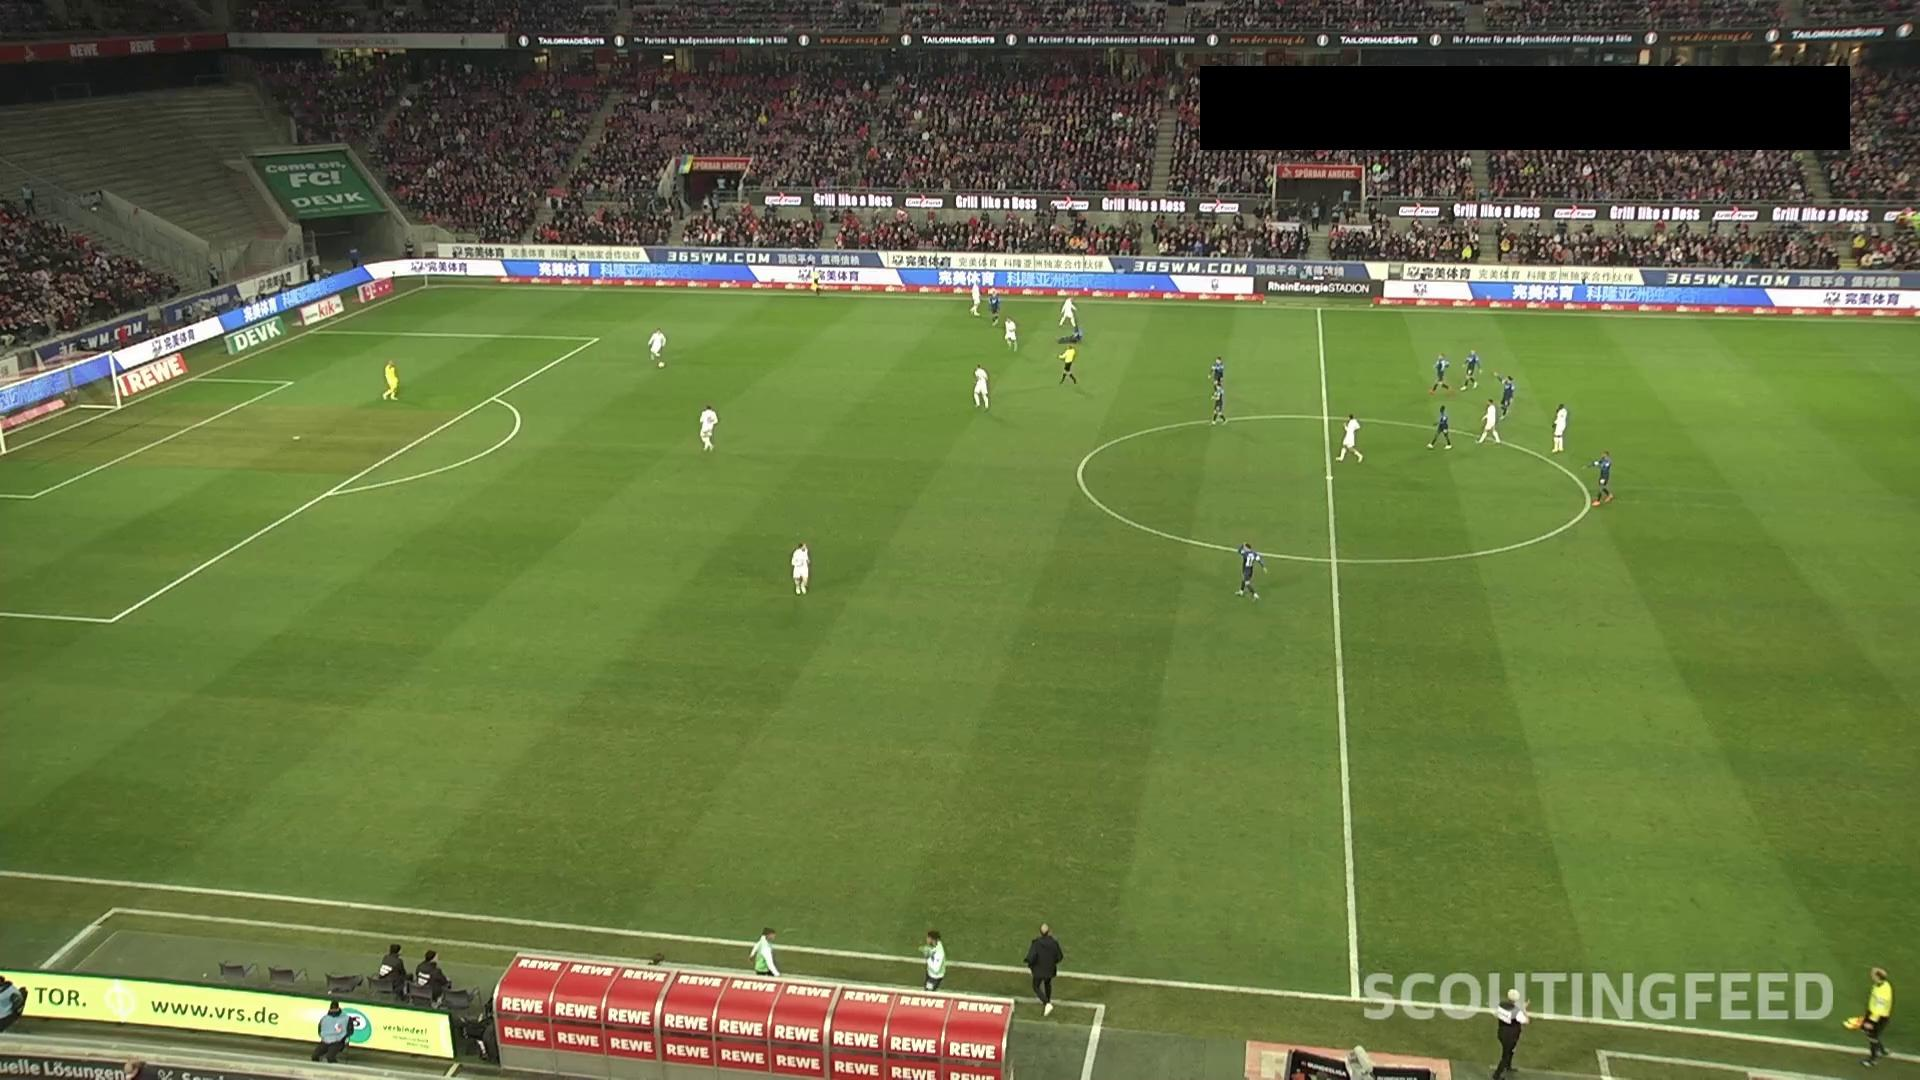Location-of-ball: (651, 348, 669, 377)
